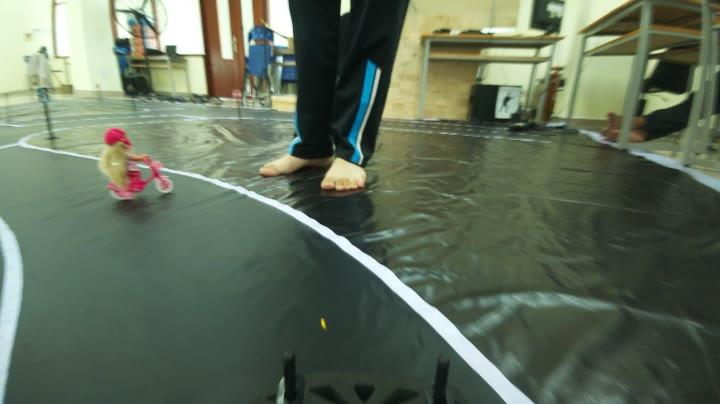pedestrian: (82, 128, 190, 212)
